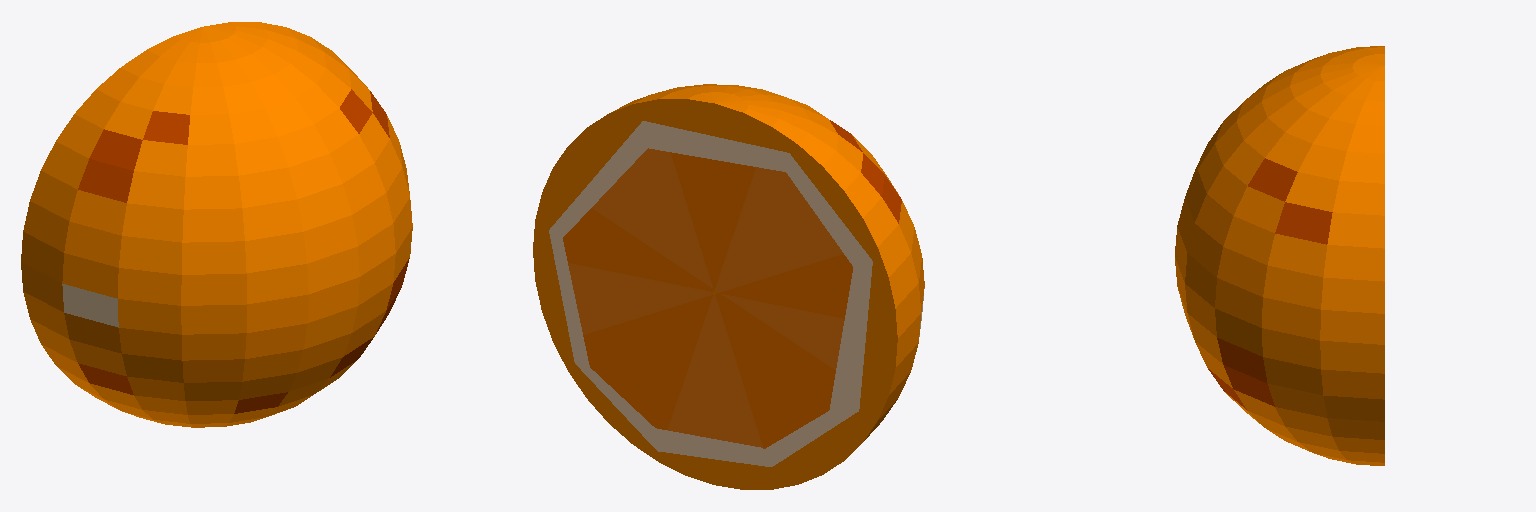
File: naranja.obj
3 views of the same model, side by side, from view 1: azimuth 30°, elevation 25°; view 2: azimuth 150°, elevation 25°; view 3: azimuth 270°, elevation 25° (orthographic).
Visible parts, largest first — view 1: pSphere1; view 2: pSphere1; view 3: pSphere1.
Part boxes in pixels (x1,y1,x2,y2): pSphere1: (21,22,412,427); pSphere1: (533,84,924,489); pSphere1: (1175,46,1384,465).
Bounding box in the file's own units: 2 × 2 × 1.